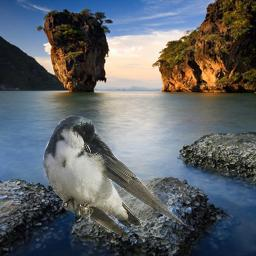Swallow: (40, 114, 189, 239)
